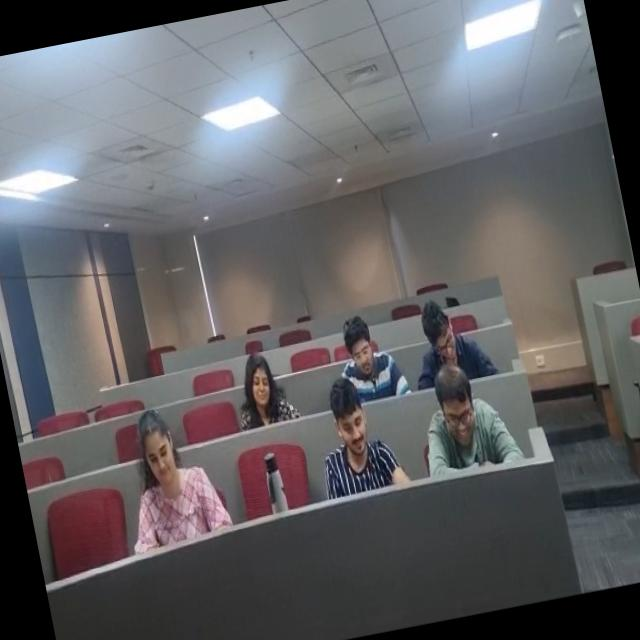cheating: (402, 348, 514, 491), (297, 358, 404, 507)
non-cheating: (106, 370, 222, 556), (314, 298, 409, 402), (222, 322, 292, 434), (403, 293, 482, 384)
